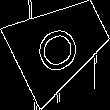O_NE: (31, 13, 89, 76)
